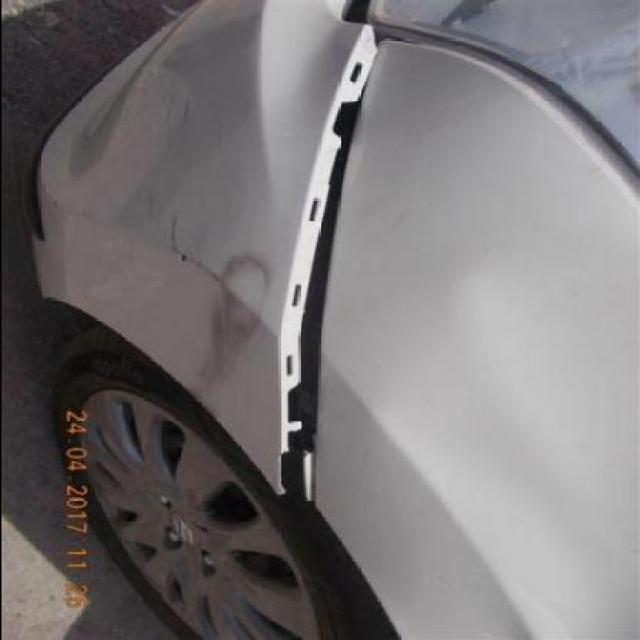damage: (276, 22, 389, 508), (188, 256, 273, 419)
